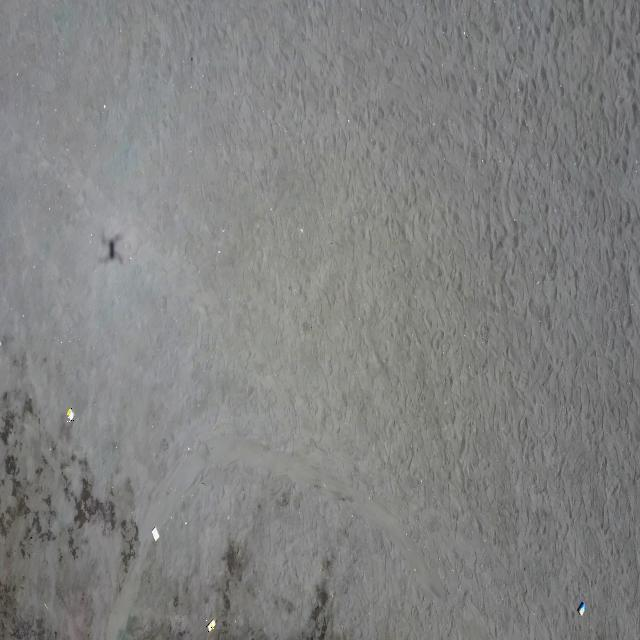Garbage: (65, 407, 74, 422), (576, 600, 583, 615), (207, 619, 215, 631), (151, 527, 158, 540)
